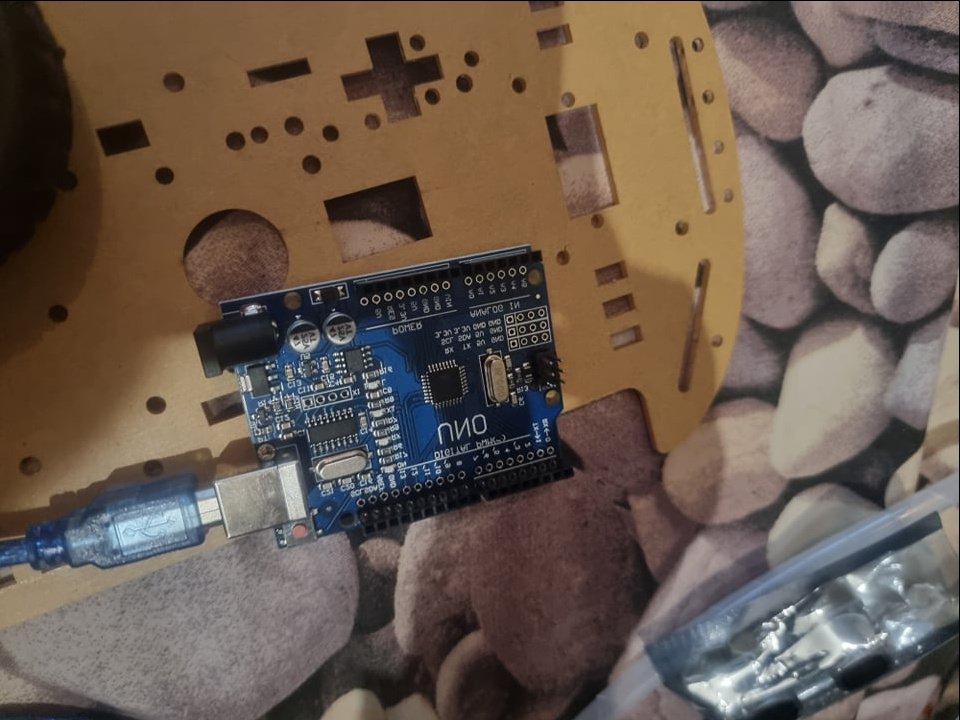UNO R3: (193, 236, 576, 564)
